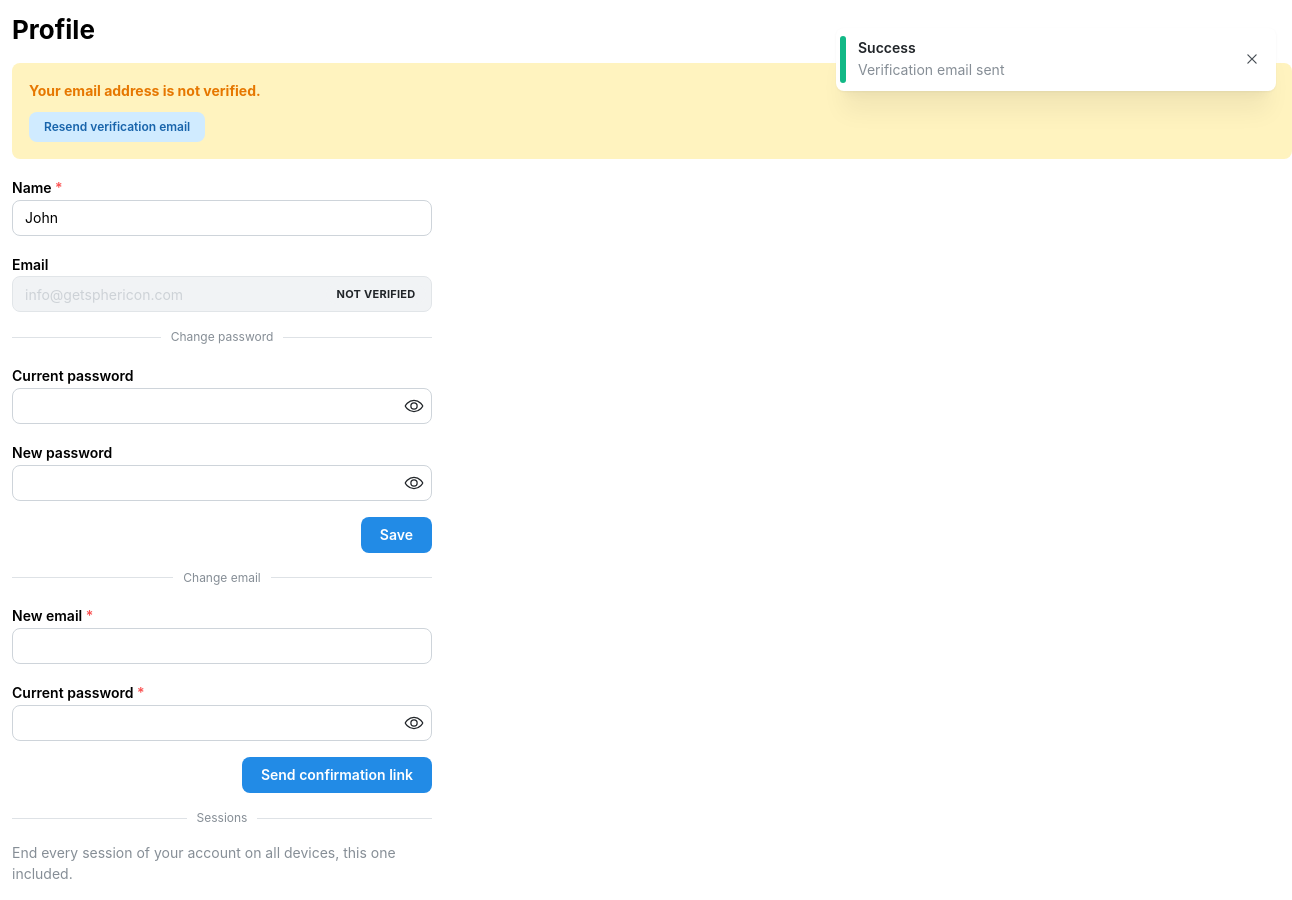
reports a failed verification resend
Click the button "Resend verification email".
click(117, 127)  # box [29,112,205,142]
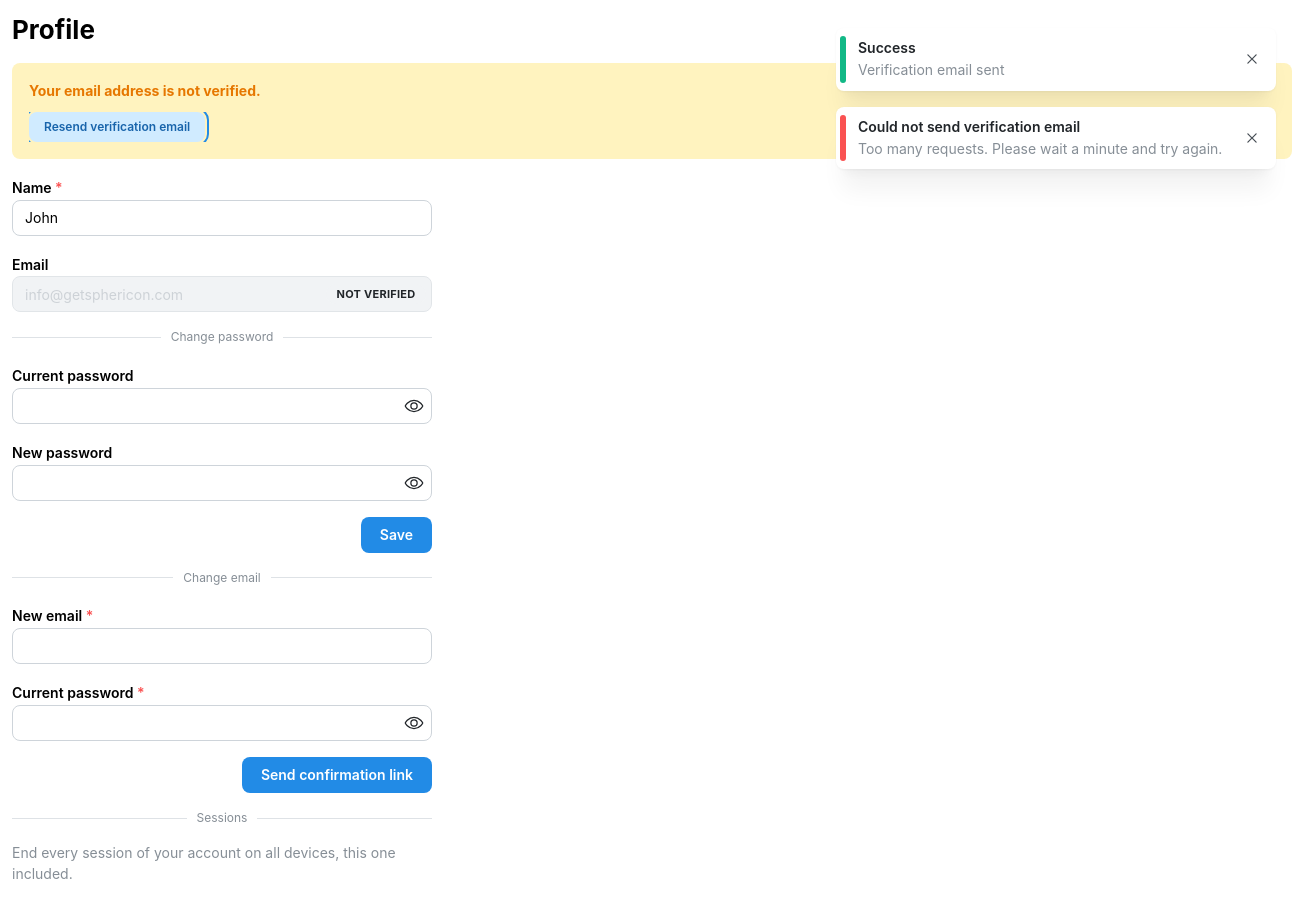
Result: the text "Could not send verification email" is shown at [858,118,1080,135]
